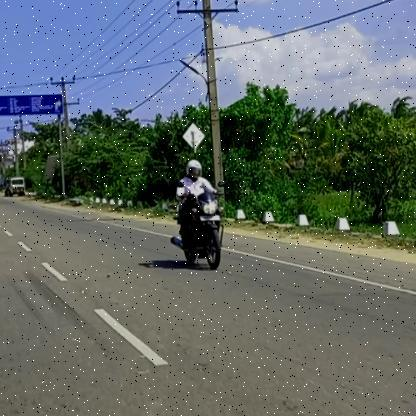motorcycle: (168, 191, 227, 271)
